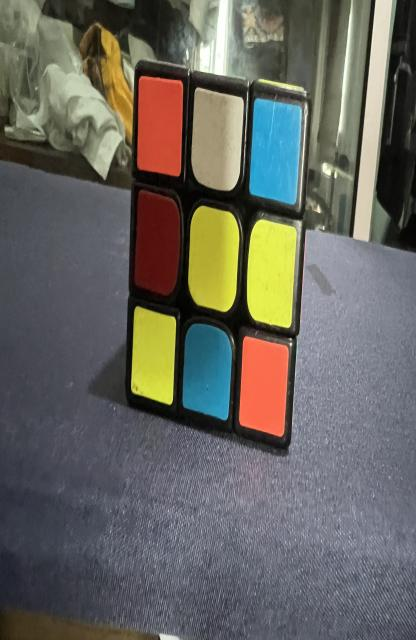Blue: (249, 98, 301, 205), (183, 323, 232, 420)
Orange: (239, 337, 288, 437), (137, 77, 183, 177)
Red: (134, 190, 180, 295)
White: (191, 87, 244, 192)
Yellow: (188, 205, 240, 312), (247, 220, 297, 328), (131, 307, 176, 405)
